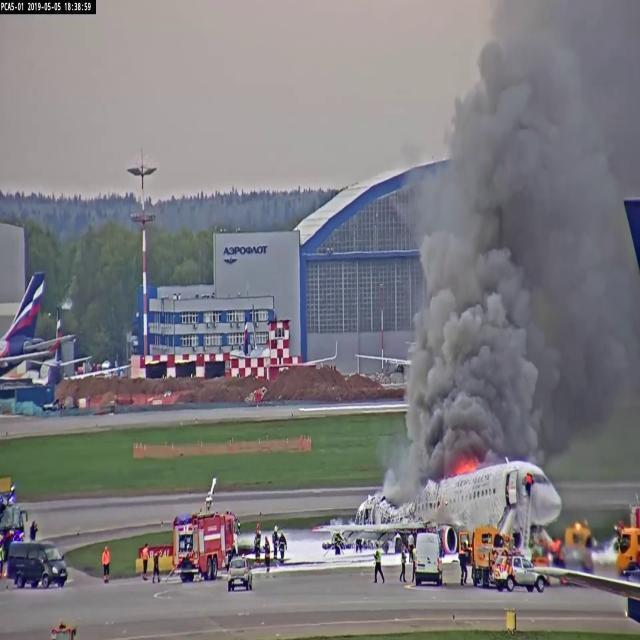Smoke: (409, 39, 618, 443)
